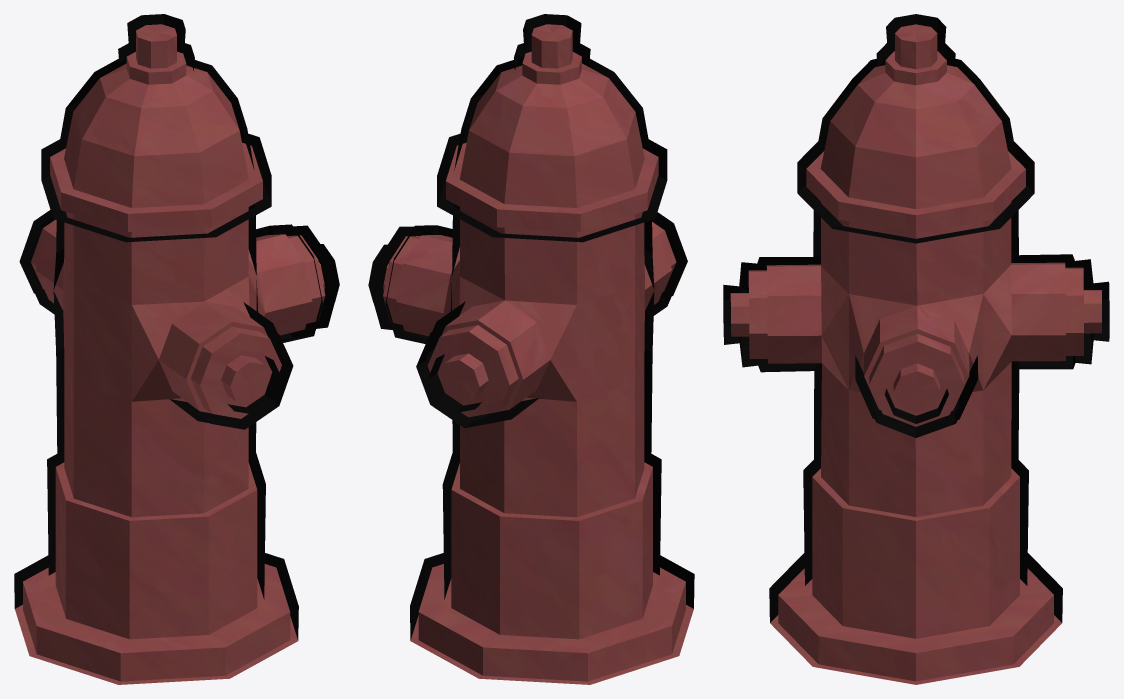
Rendered from fire pole.fbx.
3 views of the same model, side by side, from view 1: azimuth 30°, elevation 25°; view 2: azimuth 150°, elevation 25°; view 3: azimuth 270°, elevation 25° (orthographic).
Parts seen in each view (by area): view 1: Cylinder.013; view 2: Cylinder.013; view 3: Cylinder.013.
Boxes of the visible parts, bbox=[...] form: Cylinder.013: bbox=[14, 14, 339, 684]; Cylinder.013: bbox=[368, 14, 694, 684]; Cylinder.013: bbox=[723, 14, 1109, 684].
Size of the model in its own units: 48.08 by 93.17 by 54.67.
Materials: 2 (1 with a texture image).
